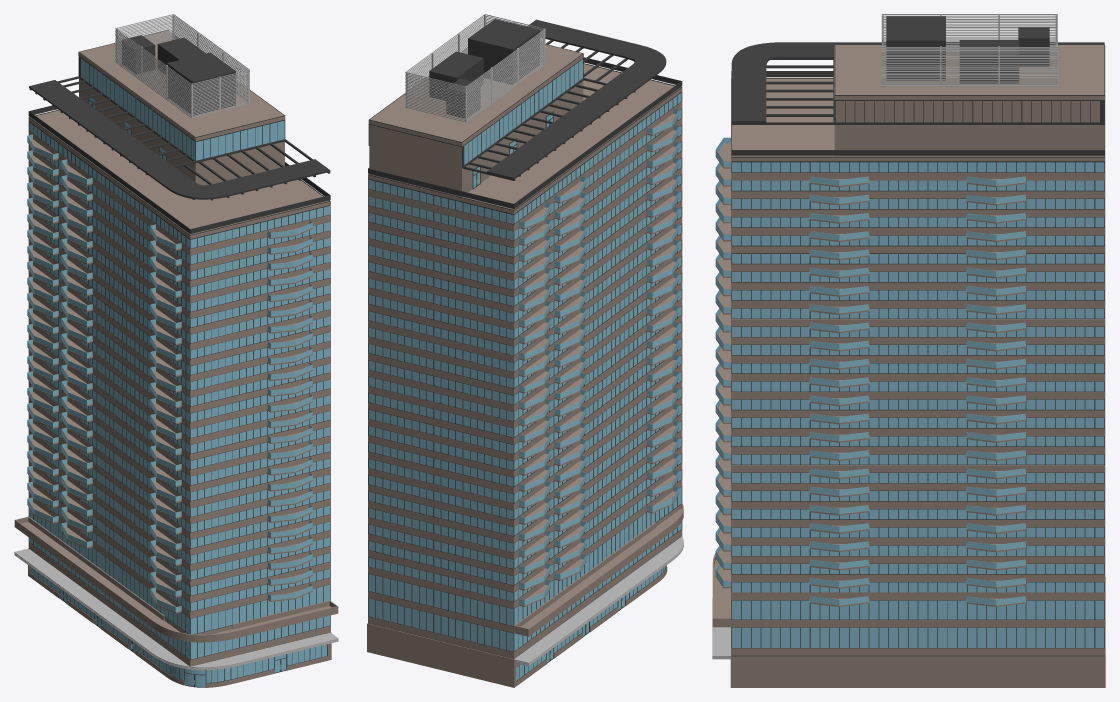
File: skyscrapper.glb
3 views of the same model, side by side, from view 1: azimuth 30°, elevation 25°; view 2: azimuth 150°, elevation 25°; view 3: azimuth 270°, elevation 25° (orthographic). The views are drawn at different scales.
Visible parts, largest first — view 1: BUILDING-2; view 2: BUILDING-2; view 3: BUILDING-2.
Part boxes in pixels (bbox=[...]): BUILDING-2: bbox=[14, 14, 338, 687]; BUILDING-2: bbox=[367, 14, 683, 687]; BUILDING-2: bbox=[712, 14, 1105, 687].
Size of the model in its own units: 4120 by 12880 by 7269.
